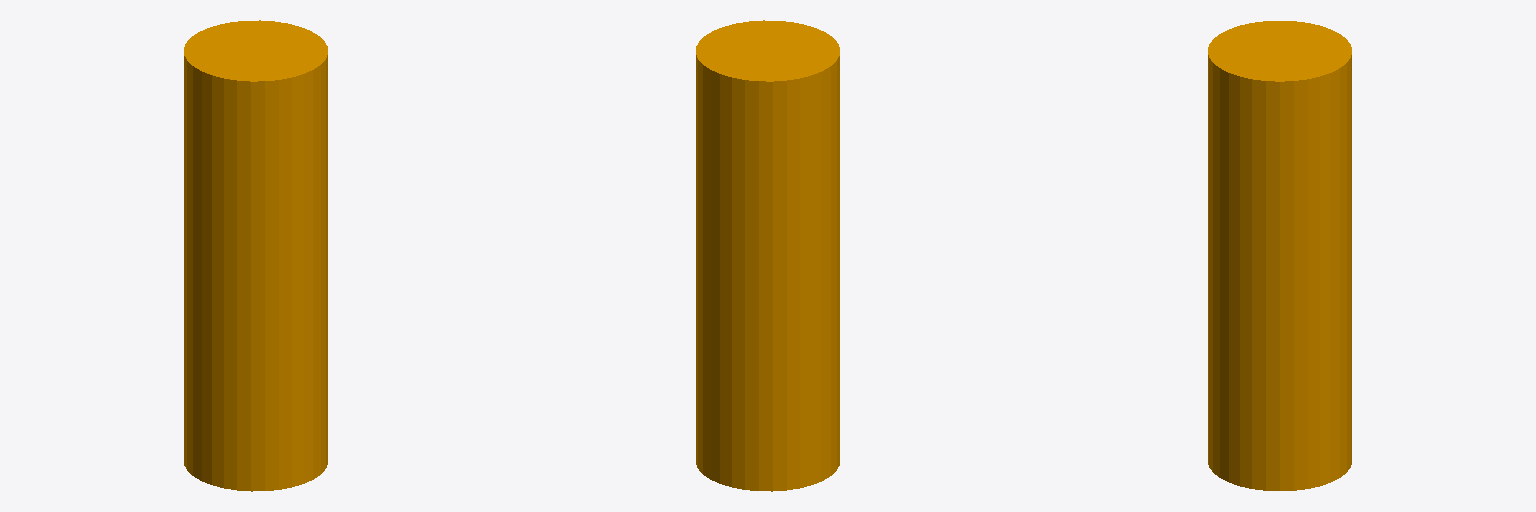
robot.urdf — leshi:
<robot name="leshi">
  <link name="link">
    <inertial>
      <origin xyz="0 0 0" />
      <mass value="0.1" />
      <!-- (1/12)*mass*(h^2)  (1/12)*mass*(h^2) (1/2)*mass*(r^2) -->
      <inertia  ixx="0.000353633" ixy="0.0"  ixz="0.0"  iyy="0.000353633"  iyz="0.0"  izz="0.00005445" />
    </inertial>
    <visual>
      <origin xyz="0 0 0"/>
      <geometry>
        <cylinder length="0.206" radius="0.033"/>
      </geometry>
    </visual>
    <collision>
      <origin xyz="0 0 0"/>
      <geometry>
        <cylinder length="0.206" radius="0.033"/>
      </geometry>
    </collision>
  </link>
  <gazebo reference="link">
    <material>Gazebo/Yellow</material>
    <mu1>1000</mu1>
    <mu2>1000</mu2>
    <maxVel>0.0</maxVel>
    <minDepth>0.0001</minDepth>
    <turnGravityOff>0</turnGravityOff>
  </gazebo>
</robot>

--- What the picture shows (computed from the rendered views, not written in the file) ---
3 views of the same robot in one strip: view 1: azimuth 30°, elevation 25°; view 2: azimuth 150°, elevation 25°; view 3: azimuth 270°, elevation 25° (orthographic).
Robot: leshi — 1 links, 0 joints (none); root link link; default pose: all joints at 0.
Links seen in each view (by area): view 1: link; view 2: link; view 3: link.
Boxes of the visible links, x1,y1,x2,y2 form: link: (184,20,327,491); link: (696,20,839,491); link: (1208,21,1351,490).
Bounding box of the posed robot: 0.066 × 0.066 × 0.206 m (x, y, z).
Geometry: primitives only (box / cylinder / sphere), no mesh files.
